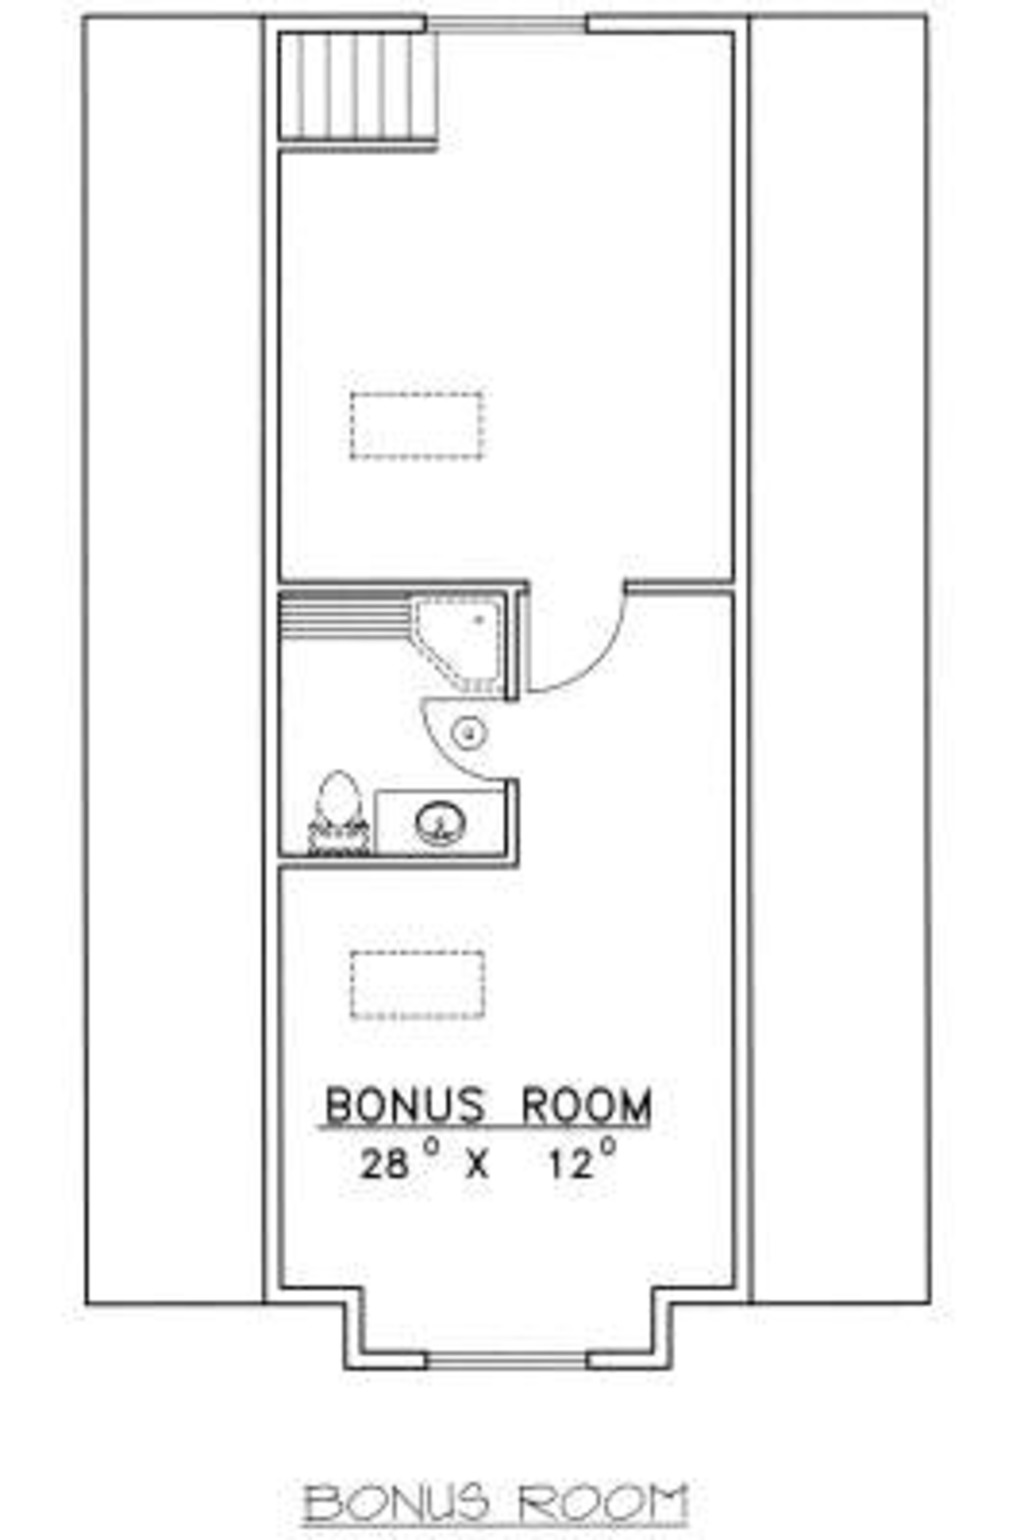door: (506, 571, 630, 691), (421, 685, 517, 788)
large_sink: (294, 762, 375, 864)
small_sink: (394, 783, 491, 860)
stairs: (280, 31, 646, 136)
window: (427, 1341, 589, 1379), (421, 10, 587, 31)
